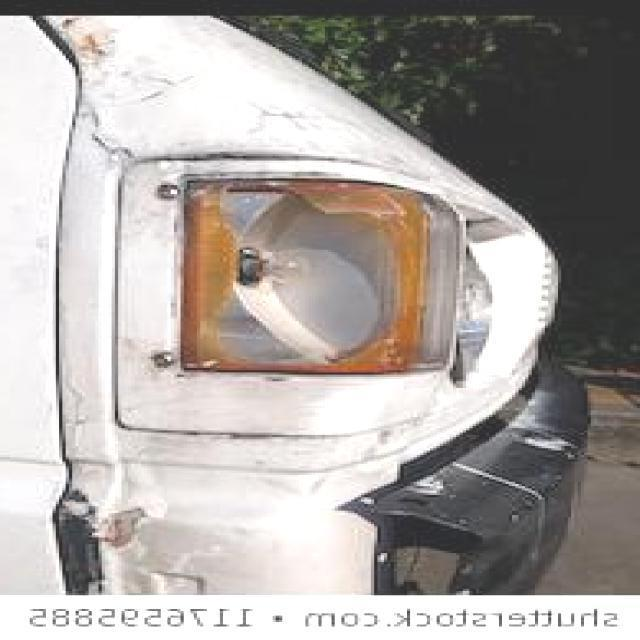minor: (52, 375, 204, 593), (254, 106, 307, 134)
moderate: (189, 185, 416, 368)
